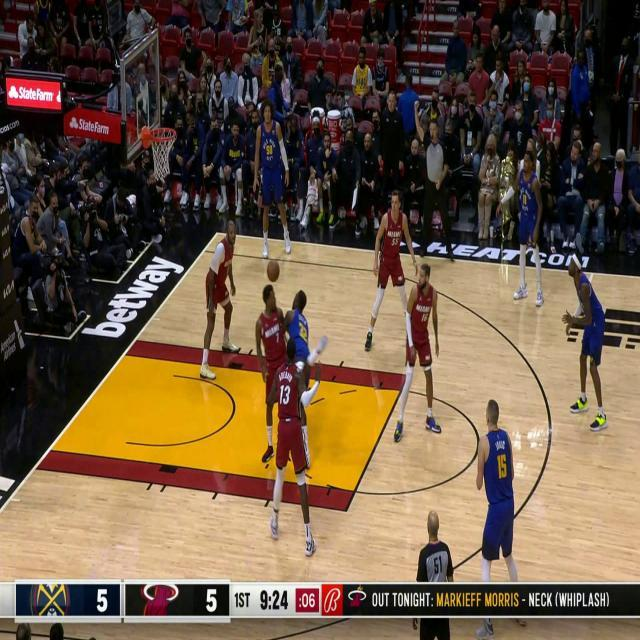rim: (266, 258, 282, 280)
